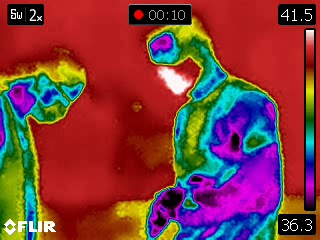human: (139, 17, 287, 240), (1, 45, 88, 240)
